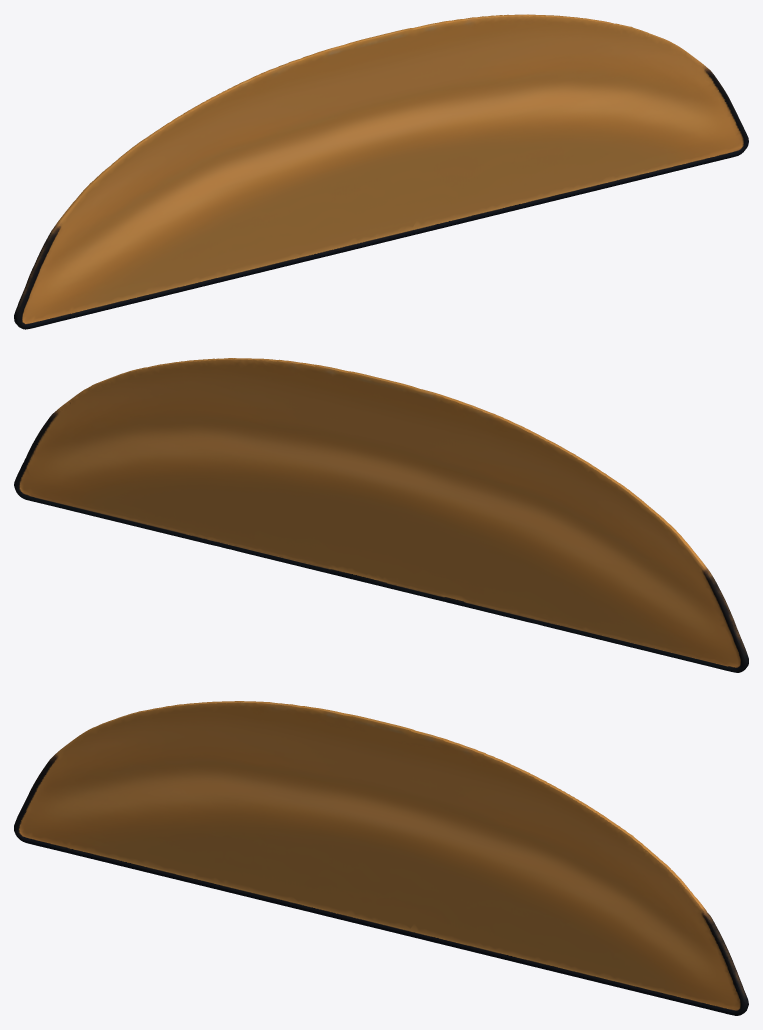
The picture shows the model from 3 angles, top to bottom: view 1: azimuth 30°, elevation 25°; view 2: azimuth 150°, elevation 25°; view 3: azimuth 330°, elevation 25°; orthographic projection.
Parts seen in each view (by area): view 1: world; view 2: world; view 3: world.
Boxes of the visible parts, bbox=[...] form: world: bbox=[14, 14, 748, 329]; world: bbox=[14, 358, 748, 672]; world: bbox=[14, 701, 748, 1015].
Bounding box in the file's own units: 0.12 × 0.0324 × 0.00132.
1 material, 1 textured.
